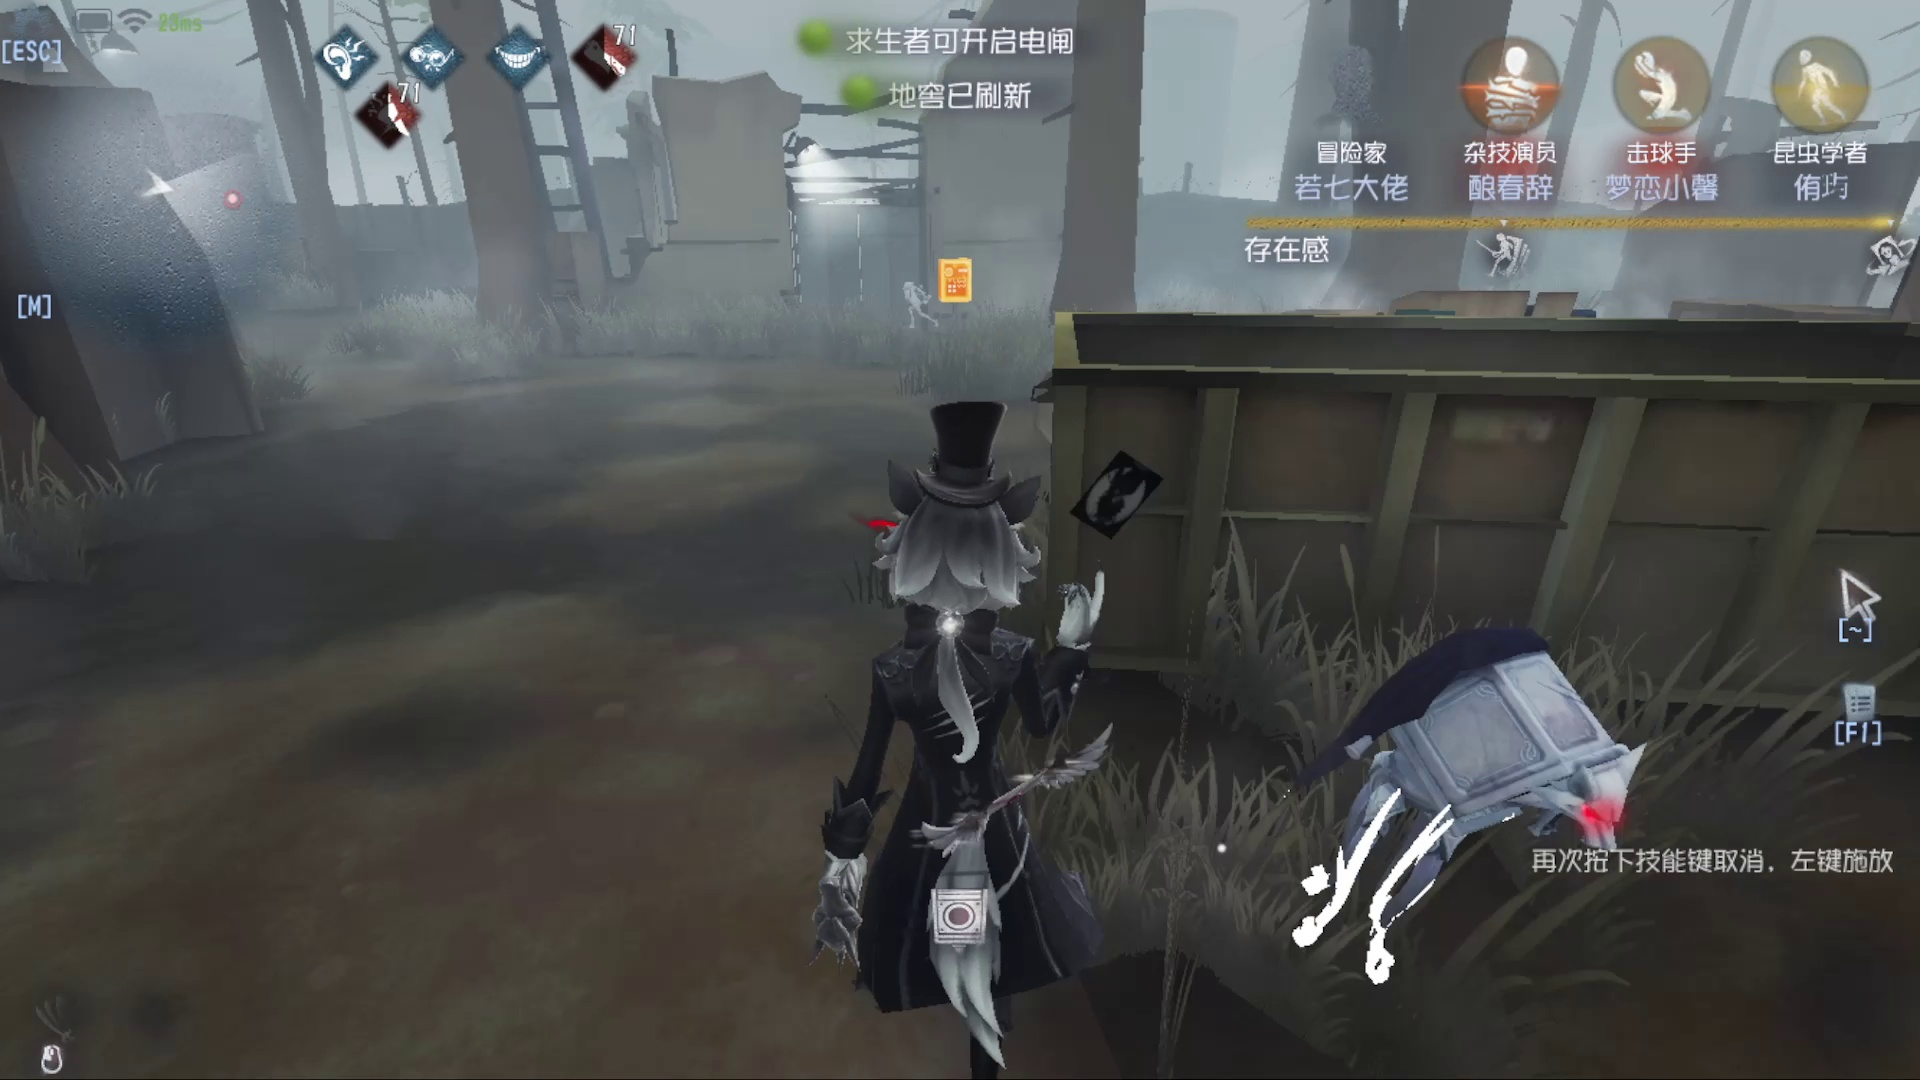求生者: (890, 261, 945, 345)
